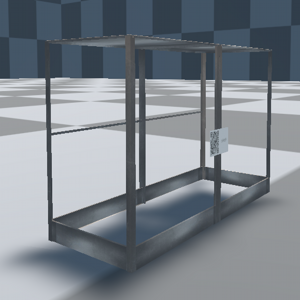Rack: (42, 32, 276, 276)
